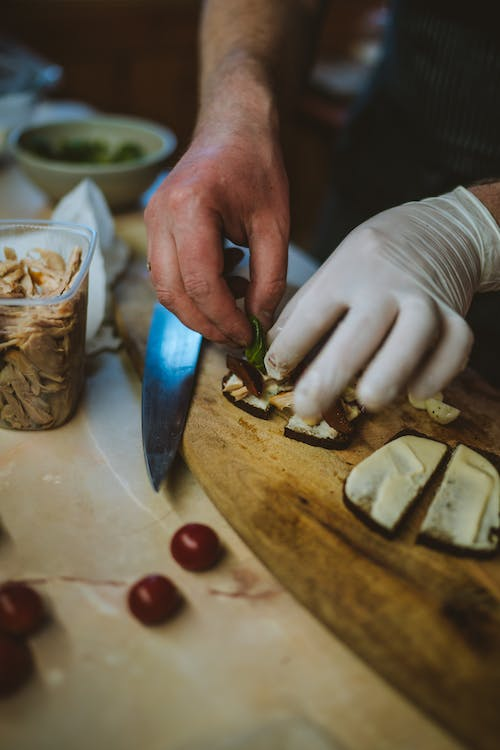knife: (139, 299, 204, 494)
